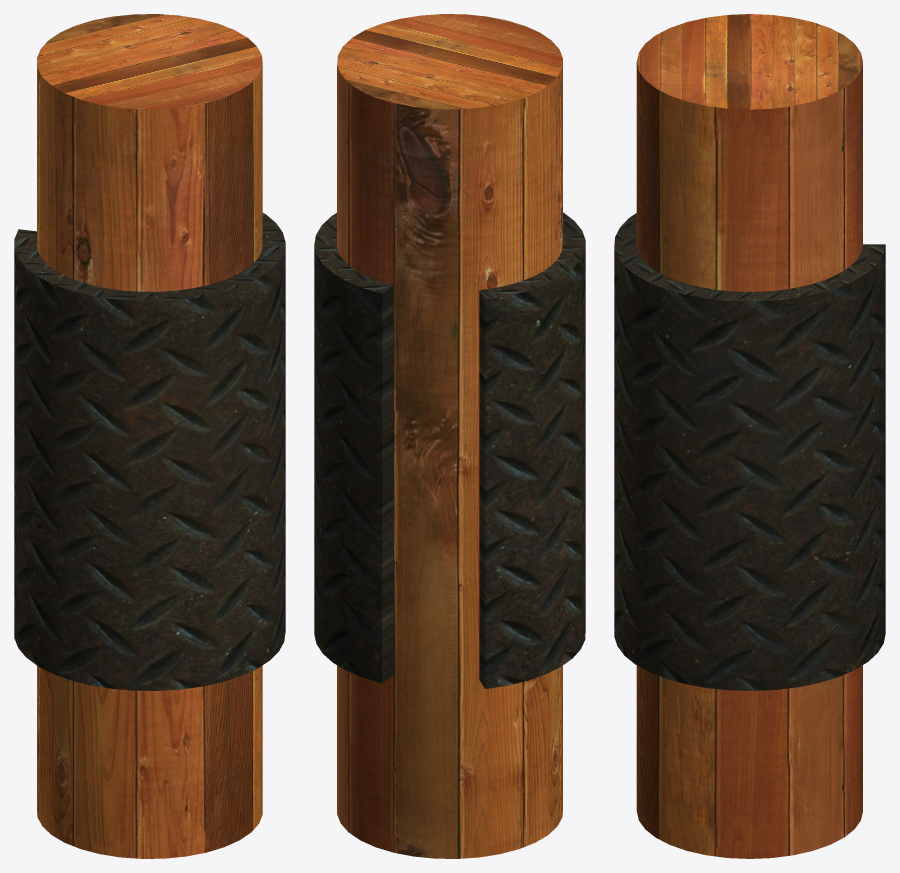
The model's file is wraptest1.FBX.
The picture shows the model from 3 angles, left to right: view 1: azimuth 30°, elevation 25°; view 2: azimuth 150°, elevation 25°; view 3: azimuth 270°, elevation 25°; orthographic projection.
Parts seen in each view (by area): view 1: Tube001, Cylinder001; view 2: Cylinder001, Tube001; view 3: Tube001, Cylinder001.
Boxes of the visible parts, left/top/right/bottom form: Tube001: left=14, top=213, right=285, bottom=690; Cylinder001: left=37, top=14, right=262, bottom=858; Cylinder001: left=337, top=14, right=562, bottom=858; Tube001: left=314, top=212, right=585, bottom=688; Tube001: left=614, top=213, right=885, bottom=690; Cylinder001: left=636, top=14, right=862, bottom=858.
Bounding box in the file's own units: 23.96 × 73.05 × 23.99.
Materials: 2 (2 with a texture image).
